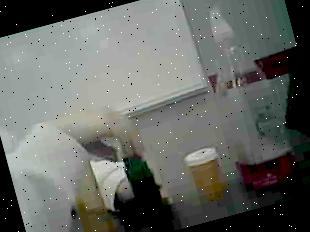Bottle A: (64, 158, 118, 232)
Bottle B: (177, 138, 232, 208)
Bottle C: (118, 140, 172, 222)
hazard: (188, 0, 309, 200)
